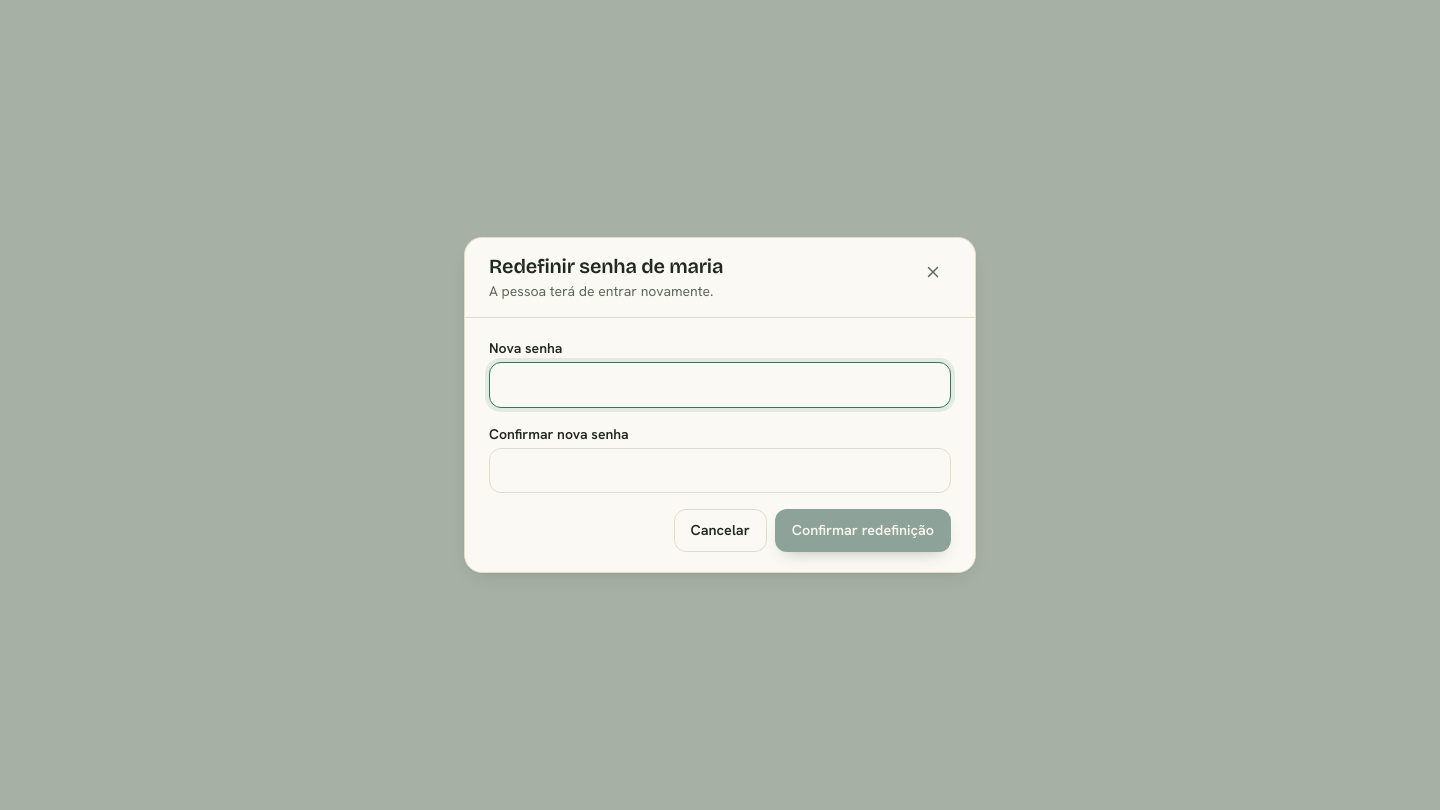
Test case: ResetPasswordModal › exige confirmacao igual antes de enviar a senha
In the password field labelled "Nova senha": (720, 385) [489,362,951,408], type "Nova-Senha-123"
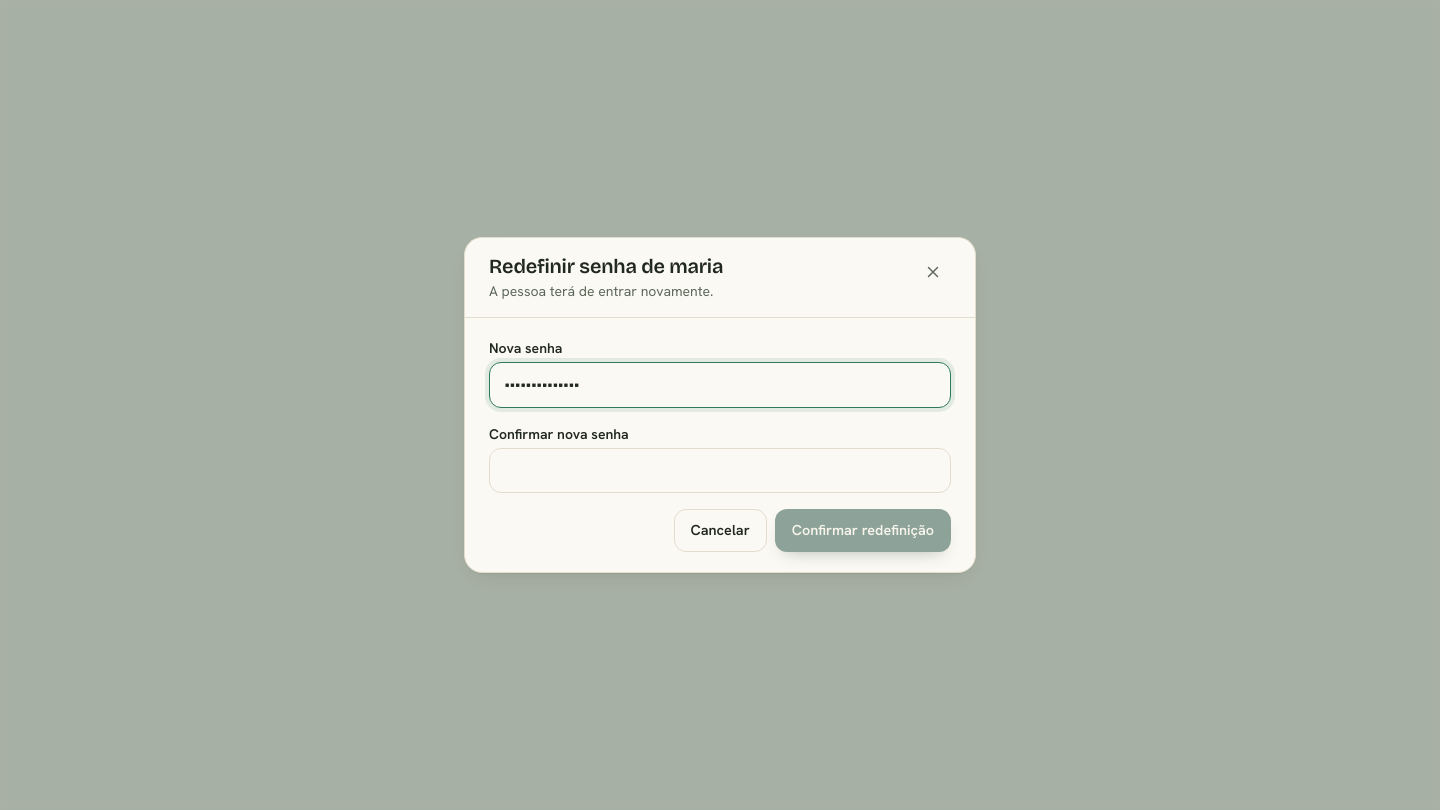
In the password field labelled "Confirmar nova senha": (720, 471) [489,448,951,494], type "diferente"
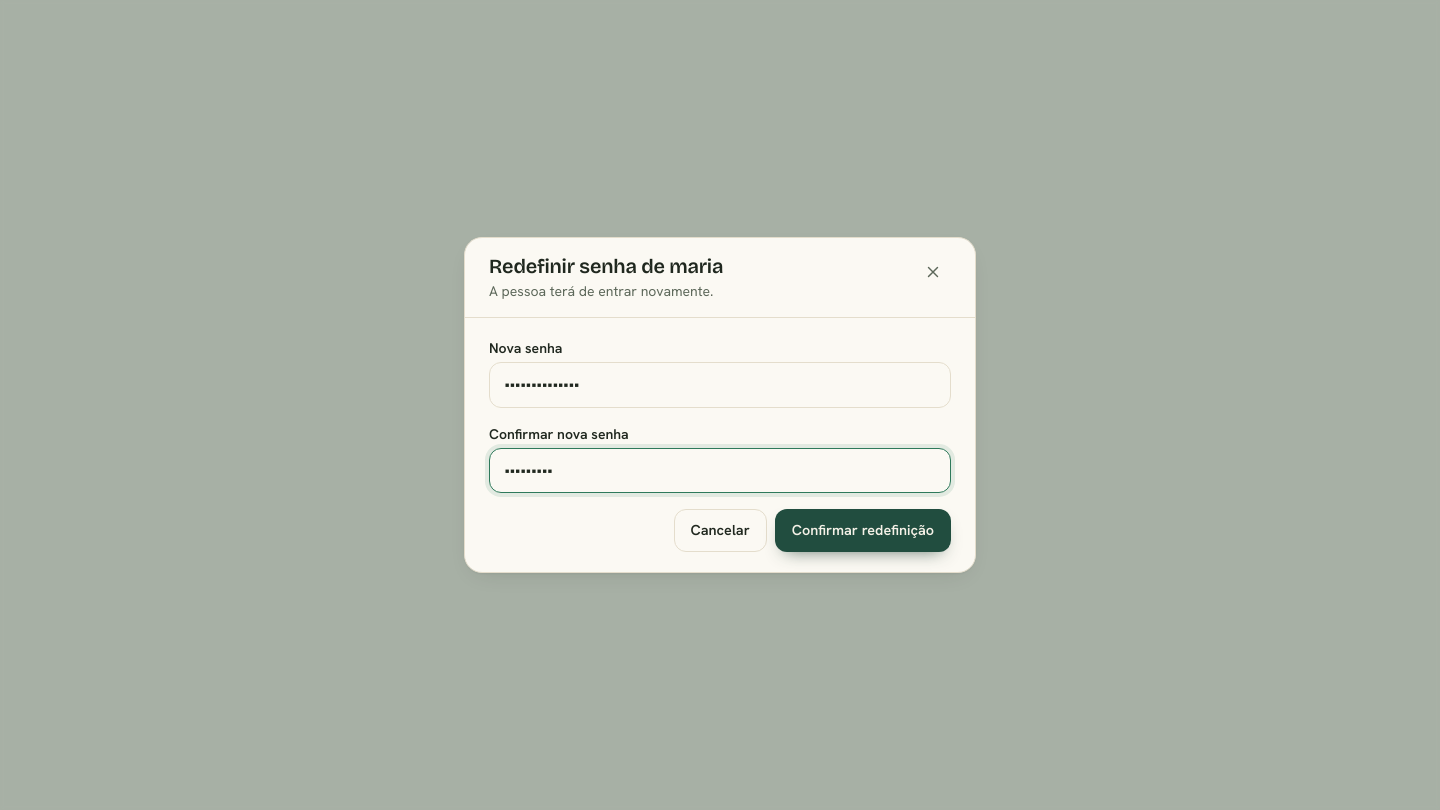
Click the button "Confirmar redefinição": (863, 531) [775,510,951,552]
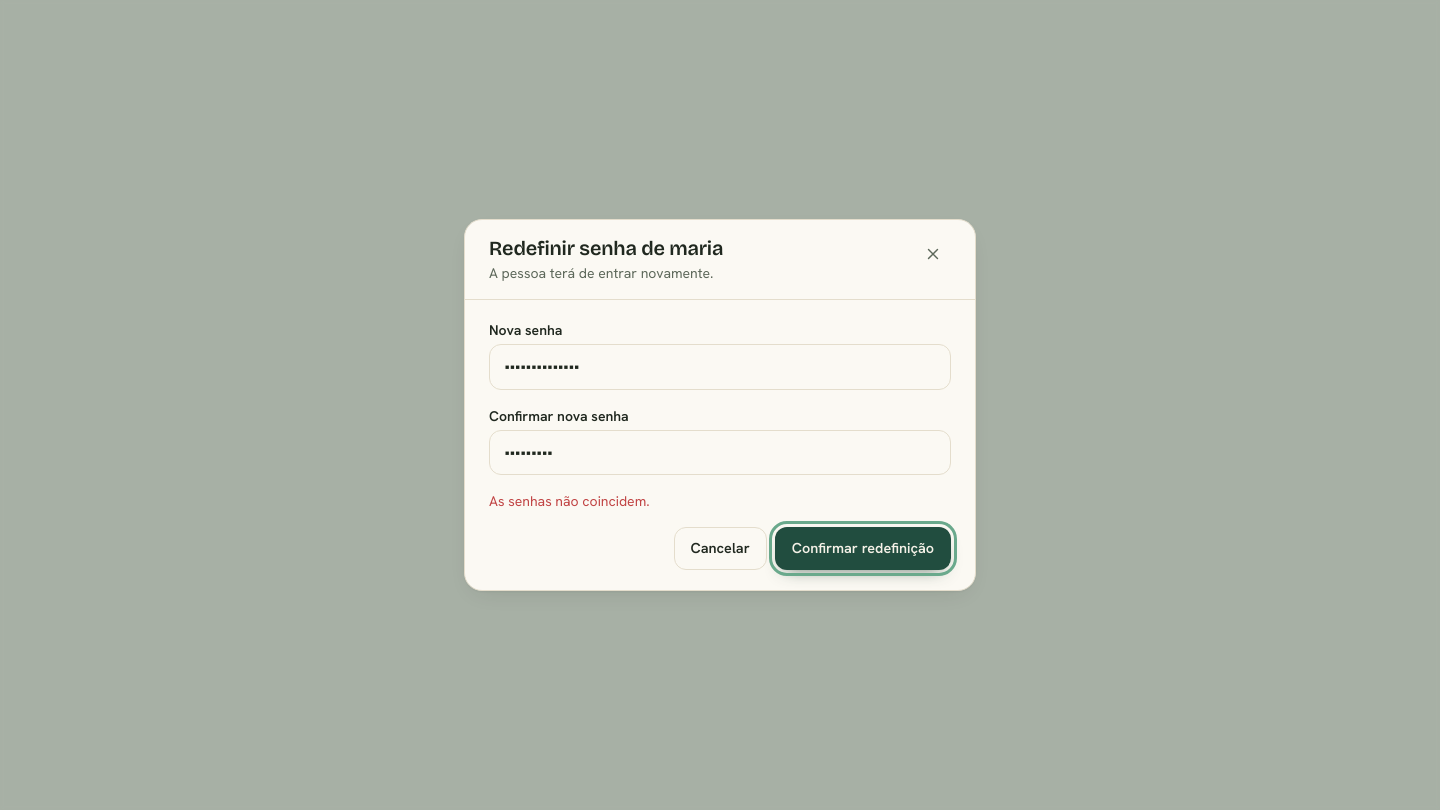
Result: the text "As senhas não coincidem." is shown at [489,492,650,510]
